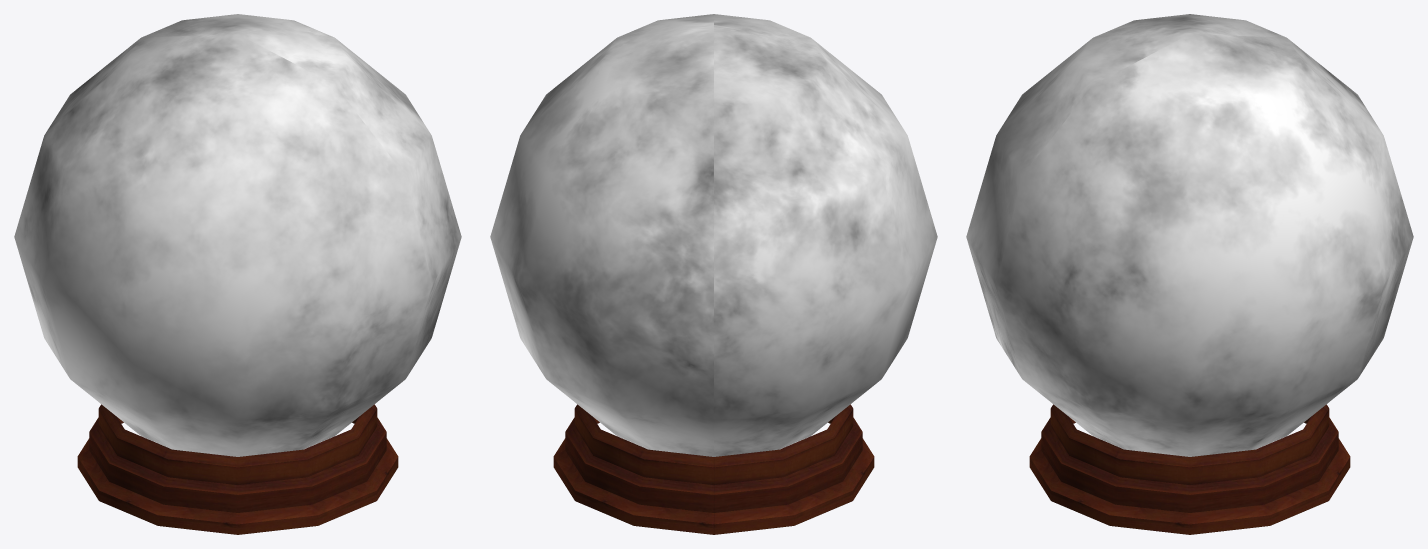
The model's file is MagicBall.fbx.
3 renders of one model, left to right at view 1: azimuth 30°, elevation 25°; view 2: azimuth 150°, elevation 25°; view 3: azimuth 270°, elevation 25°, orthographic.
Visible parts, largest first — view 1: MagicBall; view 2: MagicBall; view 3: MagicBall.
Part boxes in pixels (x1,y1,x2,y2): MagicBall: (14, 14, 461, 534); MagicBall: (490, 14, 937, 534); MagicBall: (966, 14, 1413, 534).
Size of the model in its own units: 2.21 by 2.36 by 2.21.
Materials: 1 (1 with a texture image).
